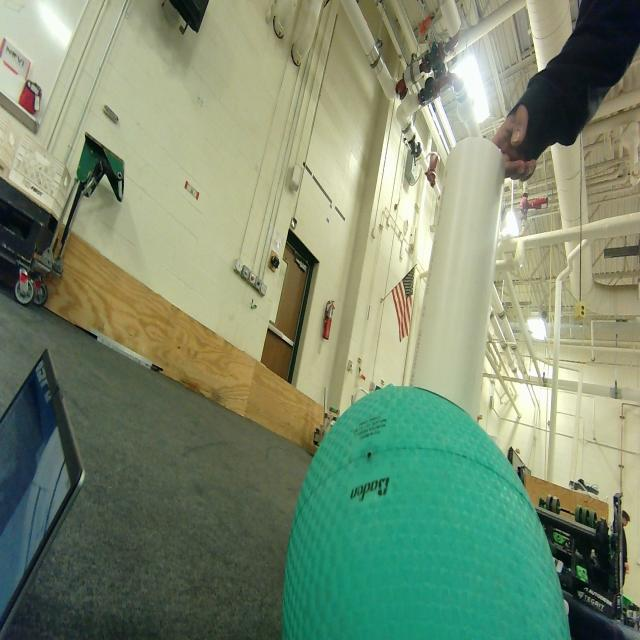algae: (277, 376, 577, 640)
coral: (405, 129, 515, 434)
